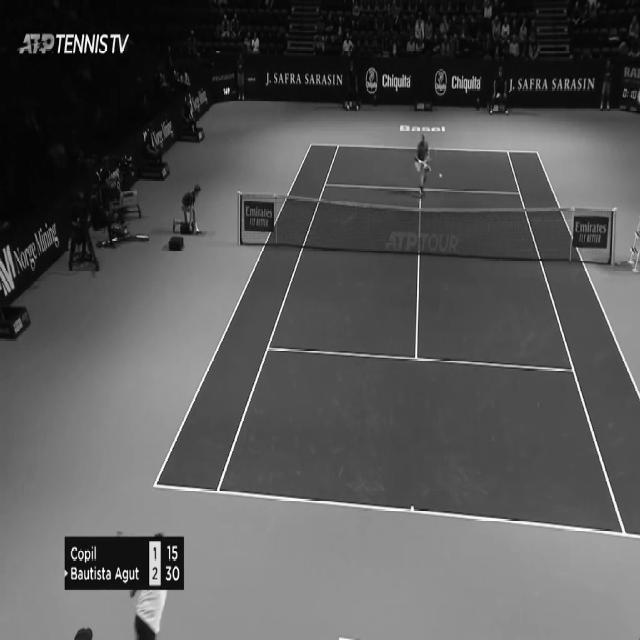tennis-court: (152, 144, 640, 538)
